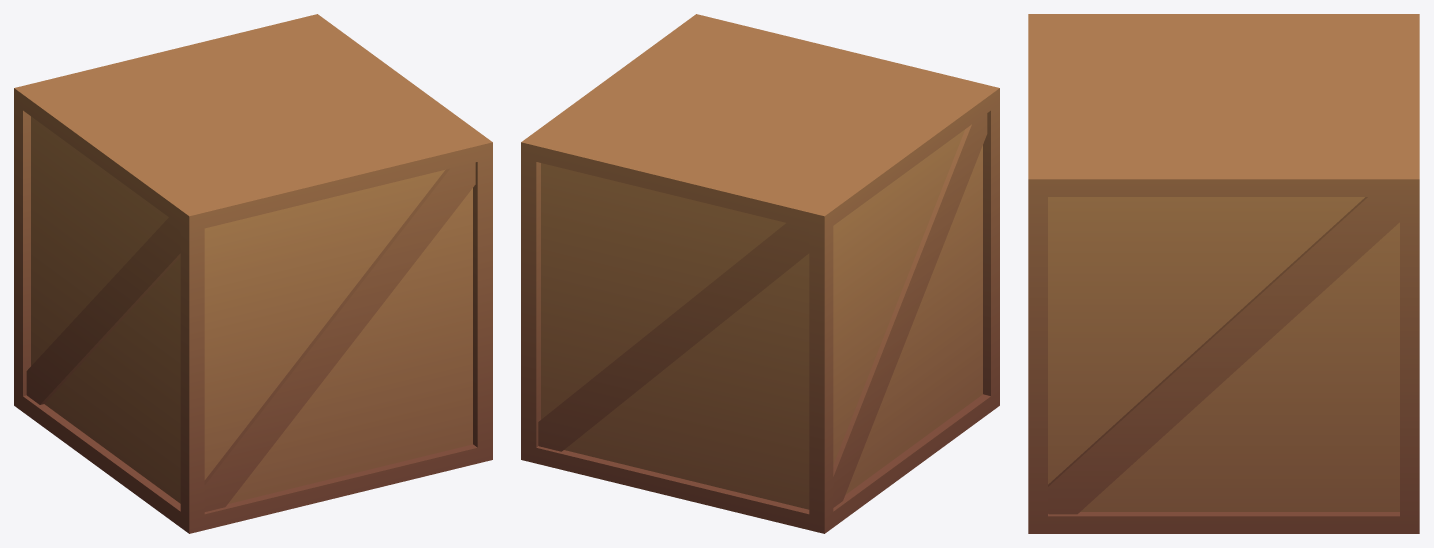
3 views of the same model, side by side, from view 1: azimuth 30°, elevation 25°; view 2: azimuth 150°, elevation 25°; view 3: azimuth 270°, elevation 25° (orthographic). The views are drawn at different scales.
Visible parts, largest first — view 1: Cube.162; view 2: Cube.162; view 3: Cube.162.
Part boxes in pixels (box(x1,y1,x2,y2)): Cube.162: box(14, 14, 492, 533); Cube.162: box(521, 14, 999, 533); Cube.162: box(1028, 14, 1419, 533).
Size of the model in its own units: 1 by 1 by 1.
